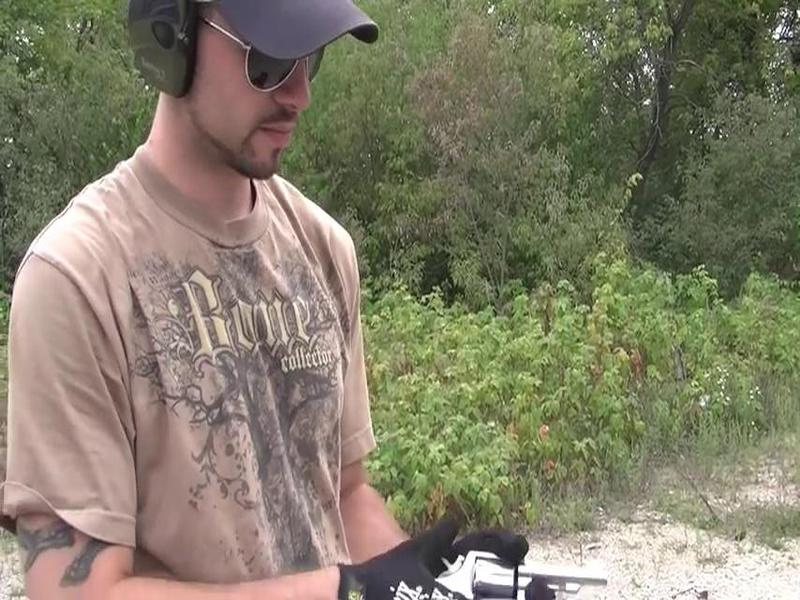Revolver: (413, 528, 636, 600)
